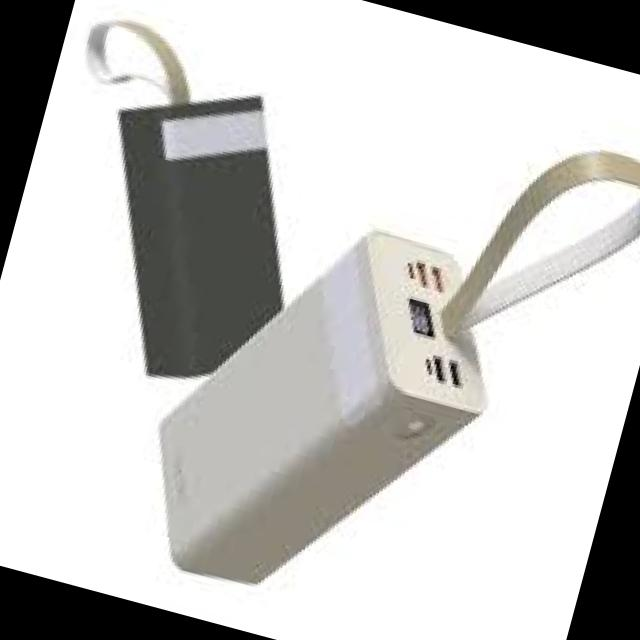portable-charger: (116, 179, 522, 636), (50, 61, 338, 408)
